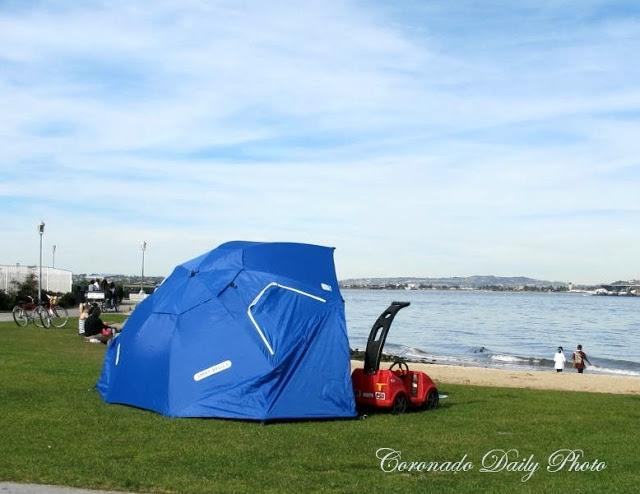non-vehicle: (37, 291, 69, 330), (12, 293, 46, 327)
